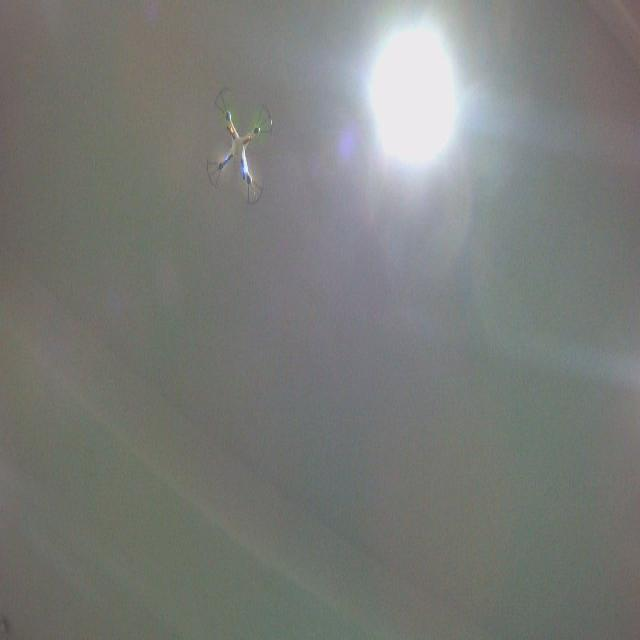drone: (203, 84, 275, 208)
